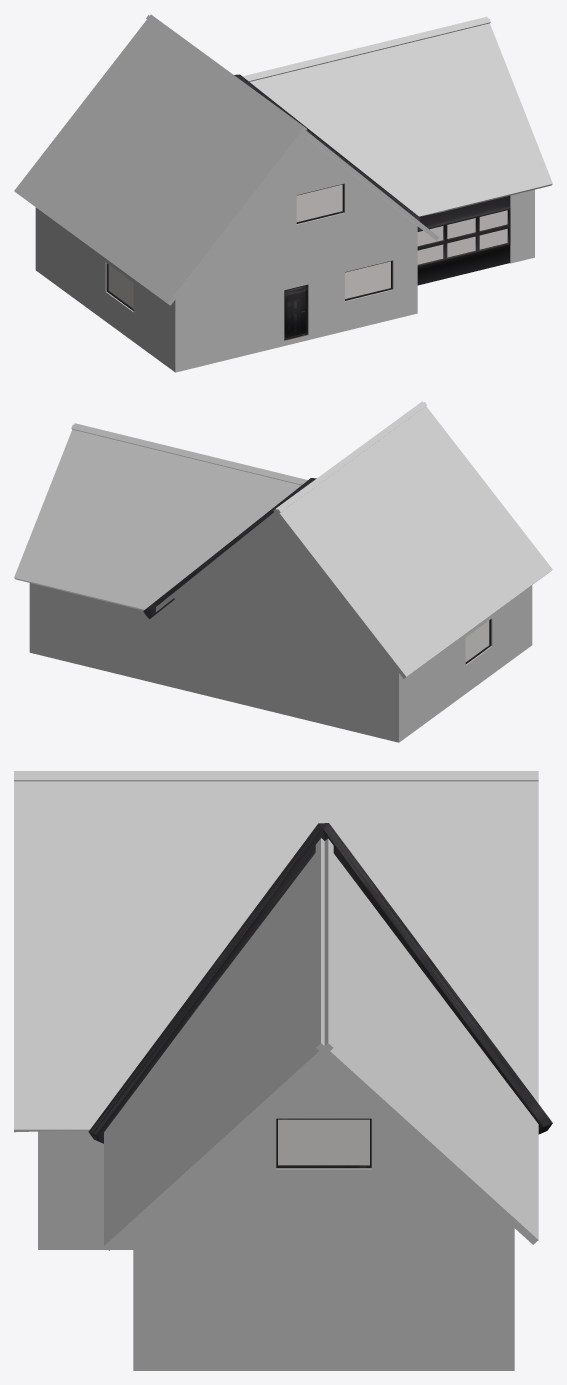
File: House2 TEST.fbx
The picture shows the model from 3 angles, top to bottom: view 1: azimuth 30°, elevation 25°; view 2: azimuth 150°, elevation 25°; view 3: azimuth 270°, elevation 25°; orthographic projection. The views are drawn at different scales.
Visible parts, largest first — view 1: HouseTEST; view 2: HouseTEST; view 3: HouseTEST.
Boxes of the visible parts, x1,y1,x2,y2 form: HouseTEST: (14,14,552,372); HouseTEST: (14,401,552,742); HouseTEST: (14,771,552,1370).
Size of the model in its own units: 17 by 8.73 by 11.3.
